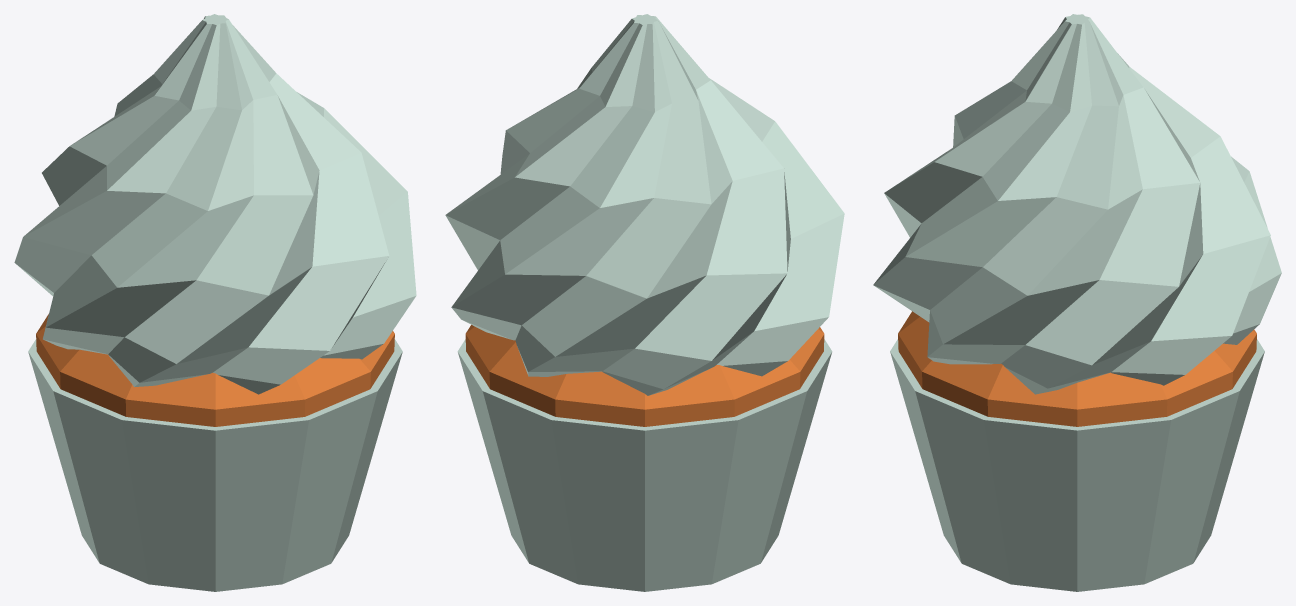
Rendered from CandylandCupcake_02.fbx.
3 views of the same model, side by side, from view 1: azimuth 30°, elevation 25°; view 2: azimuth 150°, elevation 25°; view 3: azimuth 270°, elevation 25° (orthographic).
Visible parts, largest first — view 1: CandylandCupcake_02; view 2: CandylandCupcake_02; view 3: CandylandCupcake_02.
Boxes of the visible parts, <box> form: CandylandCupcake_02: <box>14,14,416,591</box>; CandylandCupcake_02: <box>445,14,844,591</box>; CandylandCupcake_02: <box>873,14,1281,591</box>.
Bounding box in the file's own units: 0.4944 × 0.6887 × 0.4944.
